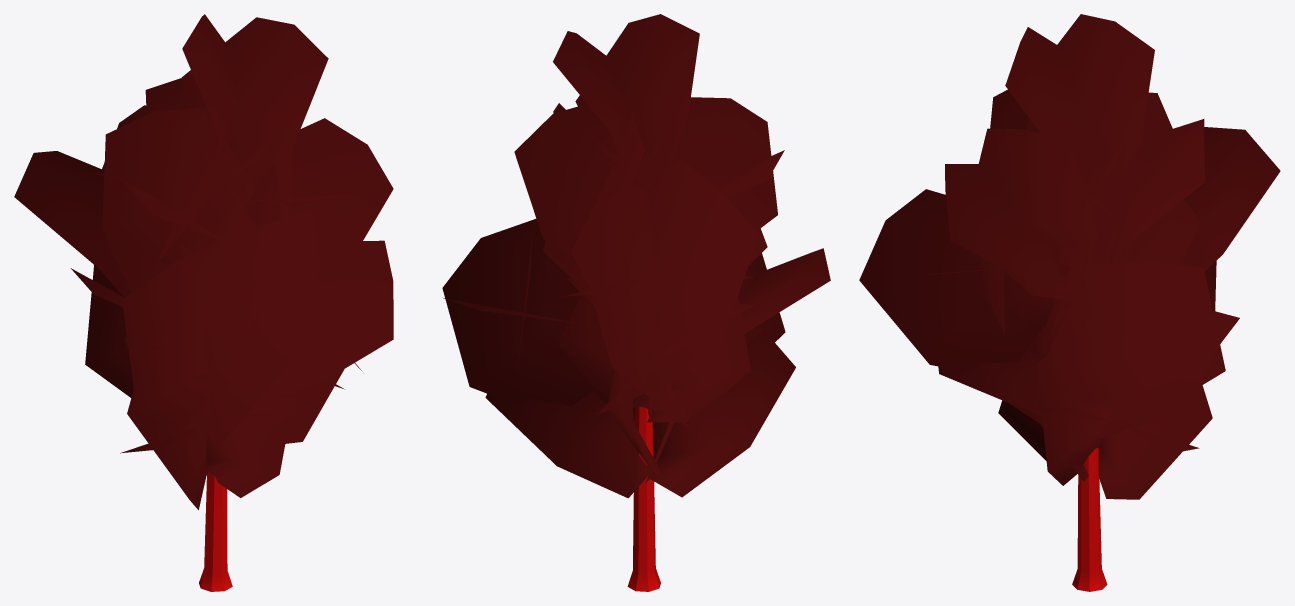
Rendered from SM_Tree_Birch_Small_01.glb.
The picture shows the model from 3 angles, left to right: view 1: azimuth 30°, elevation 25°; view 2: azimuth 150°, elevation 25°; view 3: azimuth 270°, elevation 25°; orthographic projection.
Visible parts, largest first — view 1: SM_Tree_Birch_Small_01; view 2: SM_Tree_Birch_Small_01; view 3: SM_Tree_Birch_Small_01.
Part boxes in pixels (x1=…): SM_Tree_Birch_Small_01: x1=14, y1=14, x2=393, y2=591; SM_Tree_Birch_Small_01: x1=442, y1=14, x2=830, y2=591; SM_Tree_Birch_Small_01: x1=859, y1=14, x2=1280, y2=591.
Bounding box in the file's own units: 1.17 × 1.88 × 1.27.
